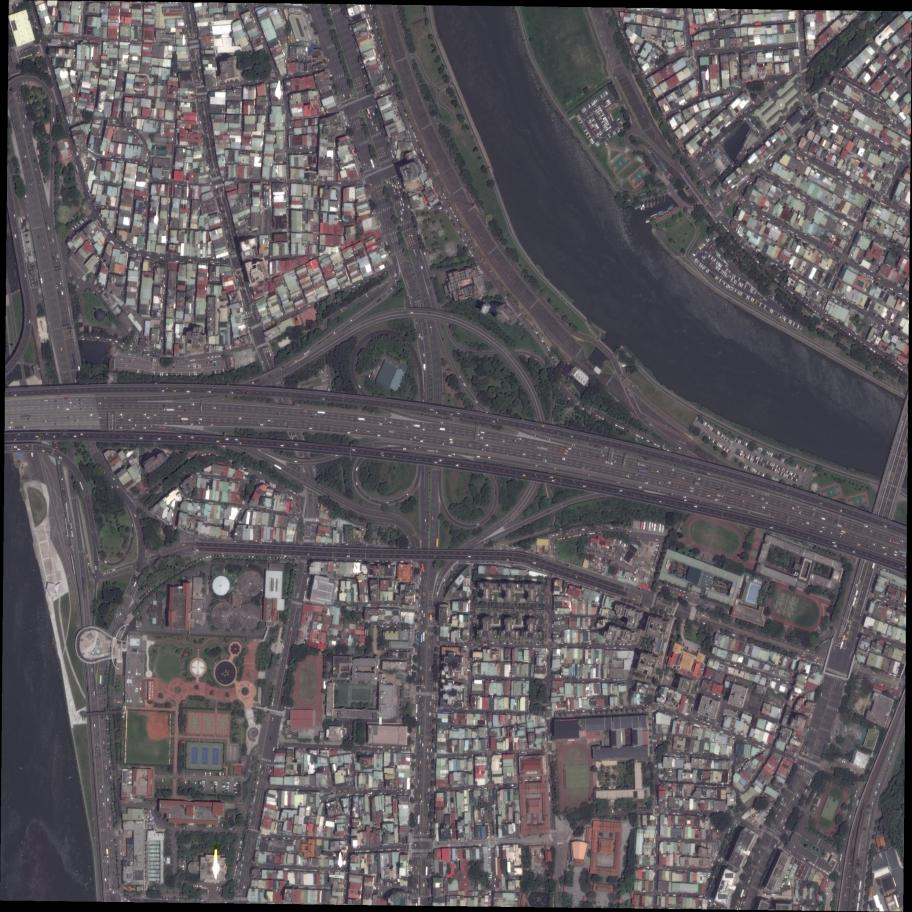storage-tank: (210, 574, 230, 596)
